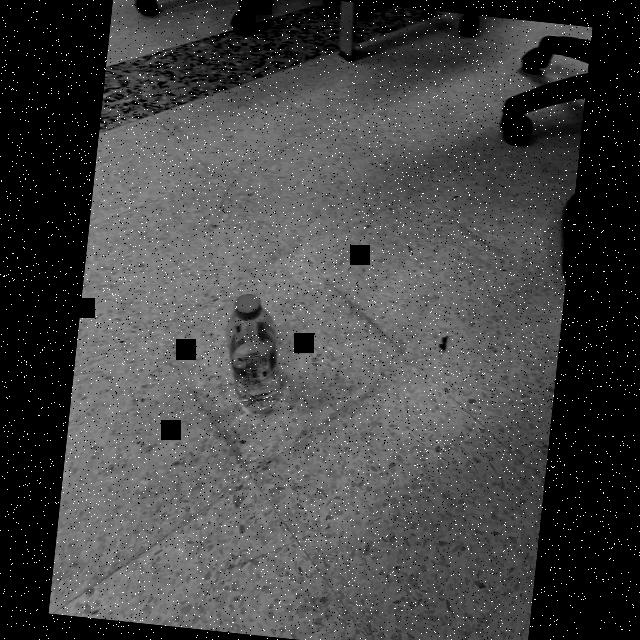plastic_bottle: (218, 291, 290, 418)
plastic_bottle_cap: (232, 292, 262, 323)
